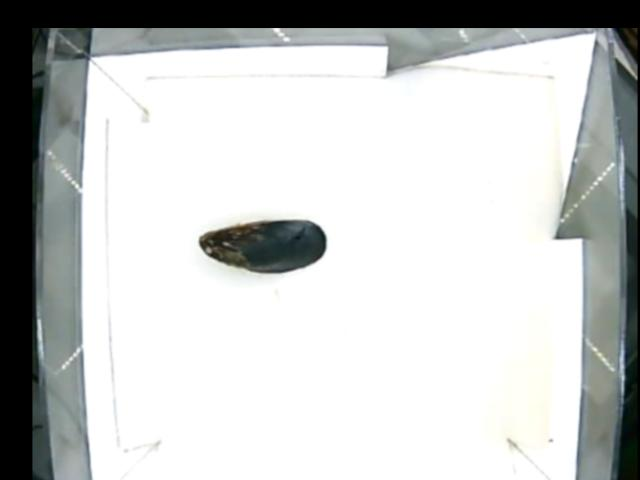Shell: (197, 219, 326, 273)
